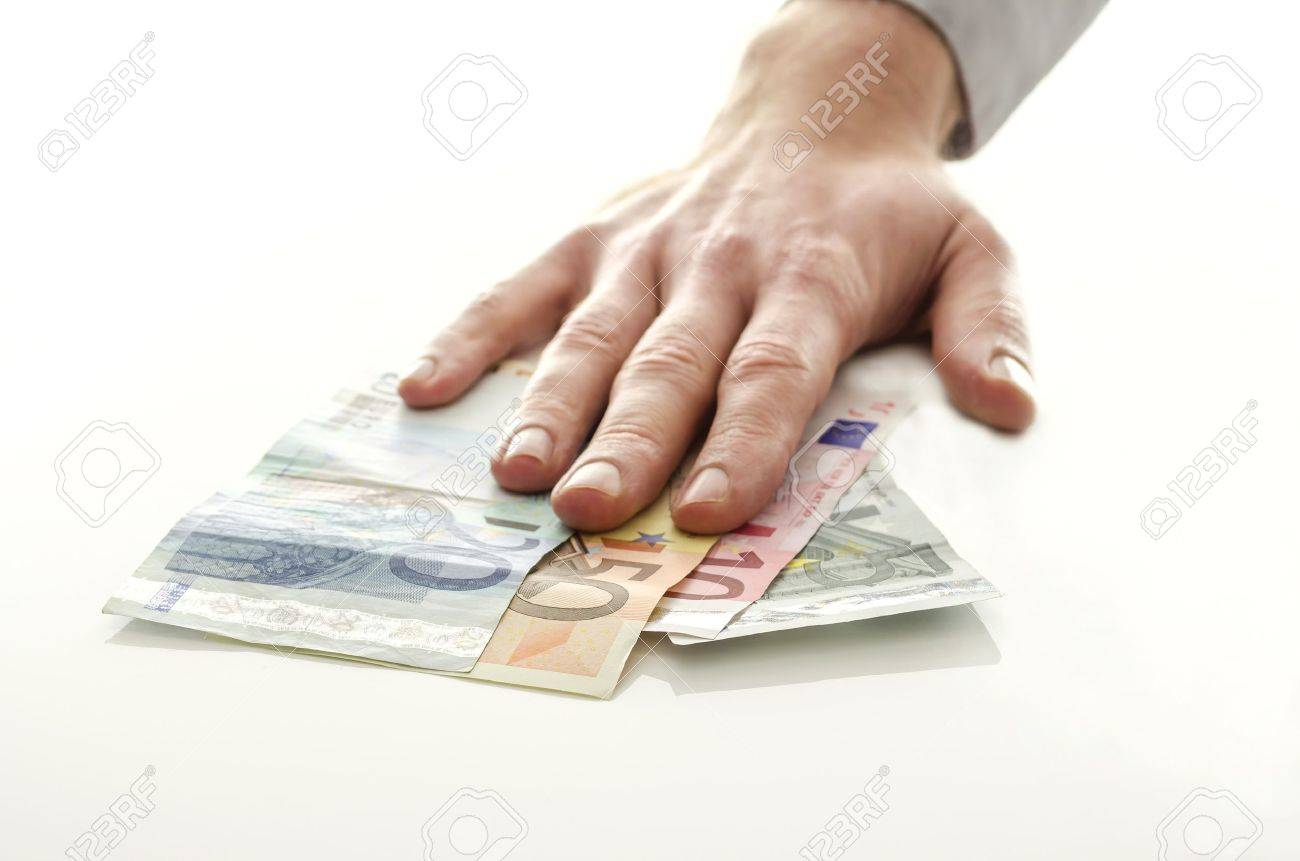billete: (96, 332, 1013, 702)
